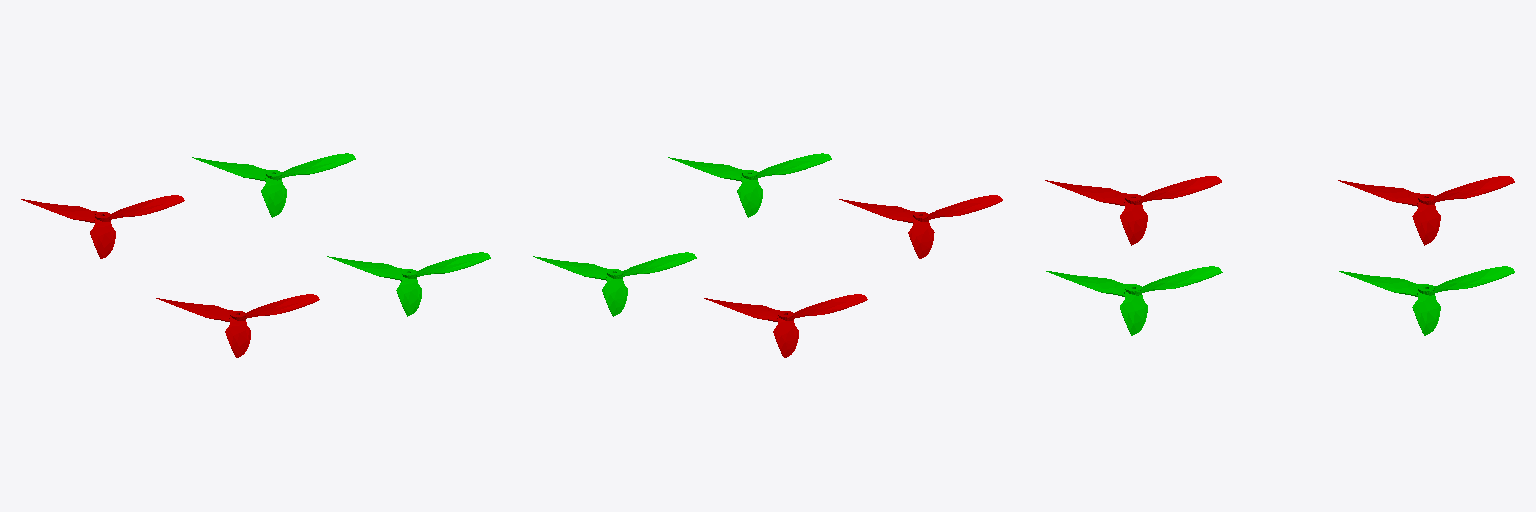
robot.urdf — starling2max:
<?xml version="1.0" ?>

<robot name="starling2max">

    <properties
        kf="3.929309999999999e-08"
        km="3.536378999999999e-09"
    />

    <material name="green">
        <color rgba="0.0 0.8 0.0 1.0"/>
    </material>
    <material name="red">
        <color rgba="0.8 0.0 0.0 1.0"/>
    </material>
    <material name="grey">
        <color rgba="0.1 0.1 0.1 1.0"/>
    </material>

    <link name="base_link">
        <inertial>
            <origin rpy="0.0 0.0 0.0" xyz="0.0 0.0 0.0"/>
            <mass value="0.566"/>
            <inertia ixx="0.004669971666666667" ixy="0" ixz="0" iyy="0.003005931666666666" iyz="0" izz="0.0061061023333333336"/>
        </inertial>
        <visual>
            <origin rpy="0.0 0.0 0.0" xyz="0.0 0.0 0.0"/>
            <geometry>
                <mesh filename="./Starling2Max.obj" scale="0.001 0.001 0.001"/>
            </geometry>
            <material name="grey"/>
        </visual>
        <collision>
            <origin rpy="0.0 0.0 0.0" xyz="0.0 0.0 0.0"/>
            <geometry>
                <box size="0.217 0.28700000000000003 0.129"/>
            </geometry>
        </collision>
    </link>

    <link name="prop0_link">
        <inertial>
            <origin rpy="0.0 0.0 0.0" xyz="0.095 0.13 0.024"/>
            <mass value="0"/>
            <inertia ixx="0" ixy="0" ixz="0" iyy="0" iyz="0" izz="0"/>
        </inertial>
        <visual>
            <origin rpy="0.0 0.0 0.0" xyz="0.095 0.13 0.024"/>
            <geometry>
                <mesh filename="./Starling2Max7040Prop.obj" scale="0.001 0.001 0.001"/>
            </geometry>
            <material name="green"/>
        </visual>
    </link>
    <joint name="prop0_joint" type="fixed">
        <parent link="base_link"/>
        <child link="prop0_link"/>
    </joint>

    <link name="prop1_link">
        <inertial>
            <origin rpy="0.0 0.0 0.0" xyz="0.095 -0.13 0.024"/>
            <mass value="0"/>
            <inertia ixx="0" ixy="0" ixz="0" iyy="0" iyz="0" izz="0"/>
        </inertial>
        <visual>
            <origin rpy="0.0 0.0 0.0" xyz="0.095 -0.13 0.024"/>
            <geometry>
                <mesh filename="./Starling2Max7040Prop.obj" scale="0.001 0.001 0.001"/>
            </geometry>
            <material name="green"/>
        </visual>
    </link>
    <joint name="prop1_joint" type="fixed">
        <parent link="base_link"/>
        <child link="prop1_link"/>
    </joint>

    <link name="prop2_link">
        <inertial>
            <origin rpy="0.0 0.0 0.0" xyz="-0.095 -0.13 0.024"/>
            <mass value="0"/>
            <inertia ixx="0" ixy="0" ixz="0" iyy="0" iyz="0" izz="0"/>
        </inertial>
        <visual>
            <origin rpy="0.0 0.0 0.0" xyz="-0.095 -0.13 0.024"/>
            <geometry>
                <mesh filename="./Starling2Max7040Prop.obj" scale="0.001 0.001 0.001"/>
            </geometry>
            <material name="red"/>
        </visual>
    </link>
    <joint name="prop2_joint" type="fixed">
        <parent link="base_link"/>
        <child link="prop2_link"/>
    </joint>

    <link name="prop3_link">
        <inertial>
            <origin rpy="0.0 0.0 0.0" xyz="-0.095 0.13 0.024"/>
            <mass value="0"/>
            <inertia ixx="0" ixy="0" ixz="0" iyy="0" iyz="0" izz="0"/>
        </inertial>
        <visual>
            <origin rpy="0.0 0.0 0.0" xyz="-0.095 0.13 0.024"/>
            <geometry>
                <mesh filename="./Starling2Max7040Prop.obj" scale="0.001 0.001 0.001"/>
            </geometry>
            <material name="red"/>
        </visual>
    </link>
    <joint name="prop3_joint" type="fixed">
        <parent link="base_link"/>
        <child link="prop3_link"/>
    </joint>


    <link name="attach0_link"/>
    <joint name="attach0_joint" type="fixed">
        <origin rpy="0.0 0.0 0.0" xyz="0.028867513459 0.0 -0.02"/>
        <parent link="base_link"/>
        <child link="attach0_link"/>
    </joint>

    <link name="attach1_link"/>
    <joint name="attach1_joint" type="fixed">
        <origin rpy="0.0 0.0 0.0" xyz="-0.01443375673 0.025 -0.02"/>
        <parent link="base_link"/>
        <child link="attach1_link"/>
    </joint>

    <link name="attach2_link"/>
    <joint name="attach2_joint" type="fixed">
        <origin rpy="0.0 0.0 0.0" xyz="-0.01443375673 -0.025 -0.02"/>
        <parent link="base_link"/>
        <child link="attach2_link"/>
    </joint>


</robot>

--- What the picture shows (computed from the rendered views, not written in the file) ---
Views: 3 orthographic renders of the robot side by side, from view 1: azimuth 30°, elevation 25°; view 2: azimuth 150°, elevation 25°; view 3: azimuth 270°, elevation 25°.
Model starling2max with 8 links and 7 joints (7 fixed), rooted at base_link, posed every joint at zero.
Links seen in each view (by area): view 1: prop3_link, prop0_link, prop2_link, prop1_link; view 2: prop1_link, prop0_link, prop2_link, prop3_link; view 3: prop1_link, prop2_link, prop3_link, prop0_link.
Boxes of the visible links, left/top/right/bottom form: prop3_link: left=21, top=195, right=184, bottom=258; prop0_link: left=192, top=153, right=355, bottom=217; prop2_link: left=156, top=294, right=319, bottom=357; prop1_link: left=327, top=252, right=490, bottom=316; prop1_link: left=668, top=153, right=831, bottom=217; prop0_link: left=533, top=252, right=696, bottom=316; prop2_link: left=839, top=195, right=1002, bottom=258; prop3_link: left=704, top=294, right=867, bottom=357; prop1_link: left=1046, top=266, right=1222, bottom=335; prop2_link: left=1045, top=176, right=1221, bottom=245; prop3_link: left=1338, top=176, right=1514, bottom=245; prop0_link: left=1339, top=266, right=1514, bottom=335.
Size in the robot's own frame: 0.3286 by 0.4183 by 0.0084 metres.
4 mesh visuals loaded from 2 distinct referenced files (1 OBJ); not drawn: 1 (reference not matched to a file when rendering).
